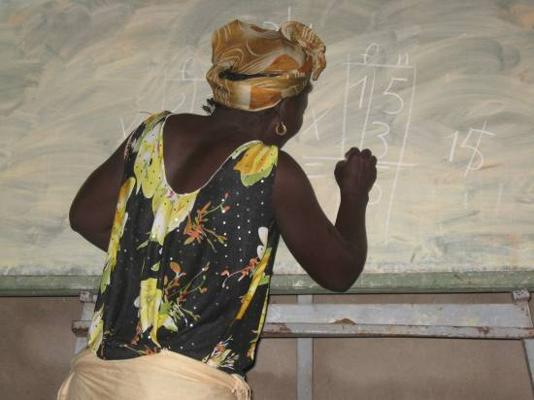person: (56, 22, 380, 400)
